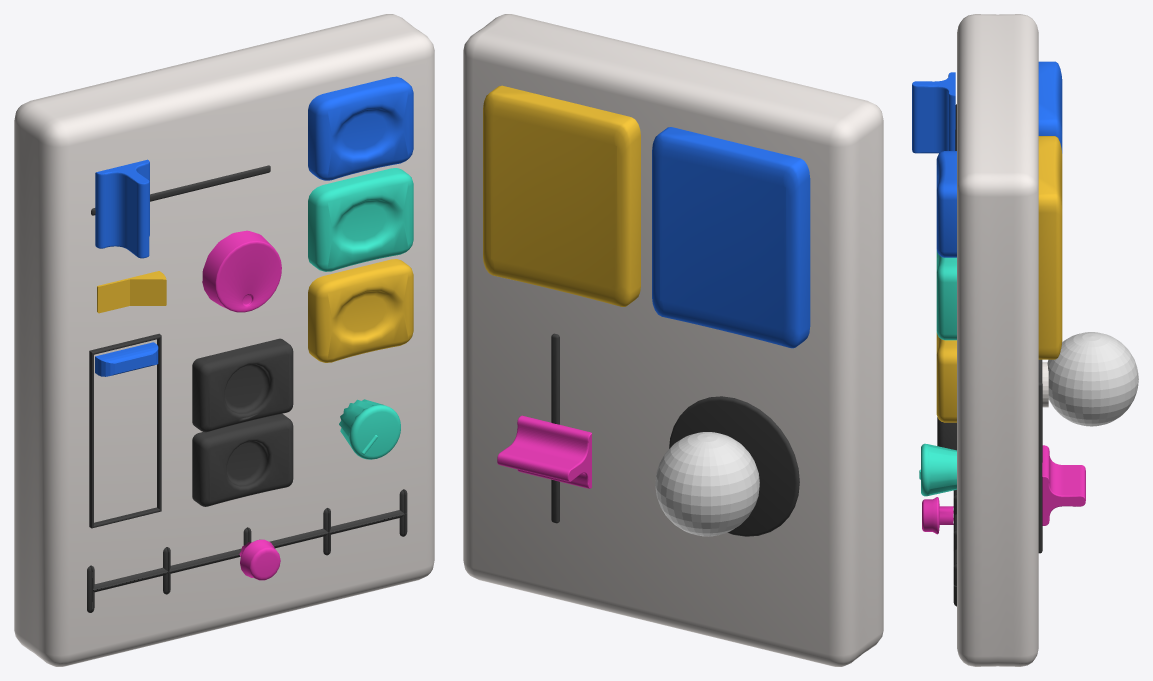
Rendered from configurator-color.glb.
3 renders of one model, left to right at view 1: azimuth 30°, elevation 25°; view 2: azimuth 150°, elevation 25°; view 3: azimuth 270°, elevation 25°, orthographic. The views are drawn at different scales.
Visible parts, largest first — view 1: base, 2c, 2b, 2a, 6a, 6b, 3, 1, Cube.010, 7, Cube.004, 4 (+3 smaller); view 2: base, next, prev, movements, socle, zoom, Cube.011; view 3: base, movements, prev, 1, 2a, zoom, next, 2b, 2c, 7, 8, Cube.011 (+2 smaller).
Part boxes in pixels (box(x1,y1,x2,y2)): base: box(14, 14, 434, 666); 2c: box(308, 259, 413, 362); 2b: box(308, 168, 413, 271); 2a: box(308, 76, 413, 180); 6a: box(192, 338, 293, 432); 6b: box(192, 413, 293, 506); 3: box(202, 230, 281, 312); 1: box(95, 159, 149, 258); Cube.010: box(87, 489, 407, 612); 7: box(339, 399, 400, 459); Cube.004: box(89, 333, 161, 528); 4: box(97, 271, 166, 313); base: box(463, 14, 883, 666); next: box(652, 127, 810, 348); prev: box(483, 85, 640, 306); movements: box(655, 432, 759, 536); socle: box(669, 396, 799, 536); zoom: box(497, 415, 591, 488); Cube.011: box(551, 333, 559, 523); base: box(957, 14, 1038, 666); movements: box(1047, 332, 1138, 426); prev: box(1038, 136, 1062, 359); 1: box(912, 72, 955, 153); 2a: box(936, 151, 956, 257); zoom: box(1042, 445, 1085, 525); next: box(1038, 61, 1062, 153); 2b: box(936, 250, 956, 340); 2c: box(936, 333, 956, 422); 7: box(919, 443, 956, 496); 8: box(922, 497, 953, 534); Cube.011: box(1038, 381, 1042, 553).
Bounding box in the file's own units: 11.54 × 15.39 × 6.42.
